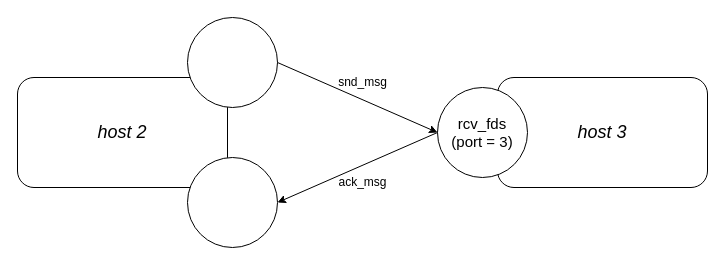
Some shapes in this 725 by 265 pixel diagram are drawn without their labels. The shapes that lost their labels are listed below. From the top down, each one's centre as x and y in pixels, then its label:
At (x=232, y=62): "snd_fds (port = random())".
At (x=232, y=202): "ack_fds (port = Maxhosts)".
